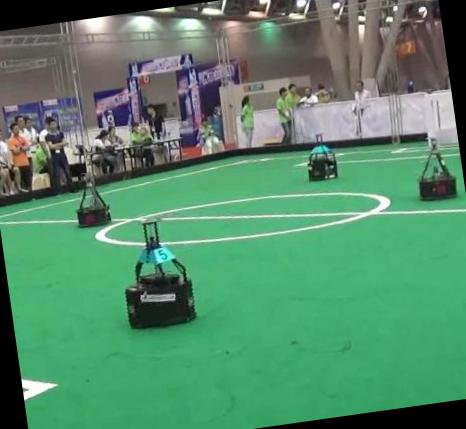robot: (124, 220, 195, 327), (418, 147, 455, 199), (76, 186, 109, 226), (307, 142, 336, 180)
